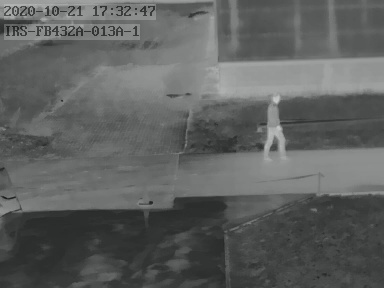person: (261, 92, 289, 162)
